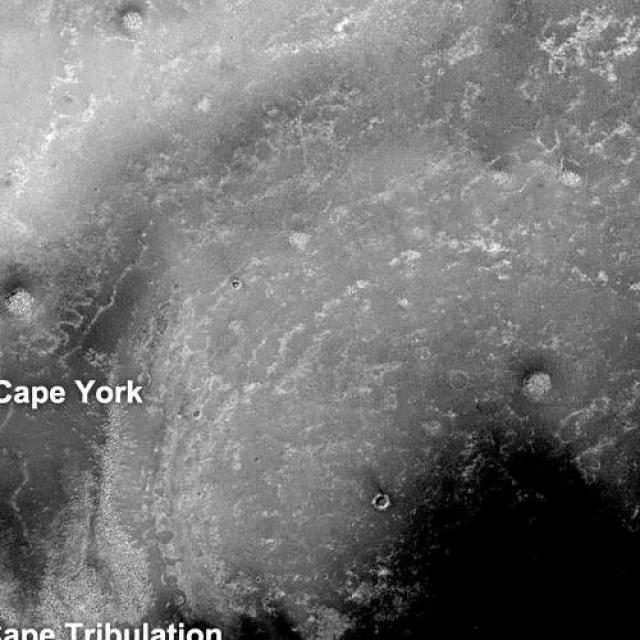crater: (0, 0, 640, 640), (288, 0, 384, 45), (504, 352, 564, 417), (196, 0, 262, 40), (130, 0, 199, 29), (0, 355, 29, 412), (0, 0, 29, 16)
